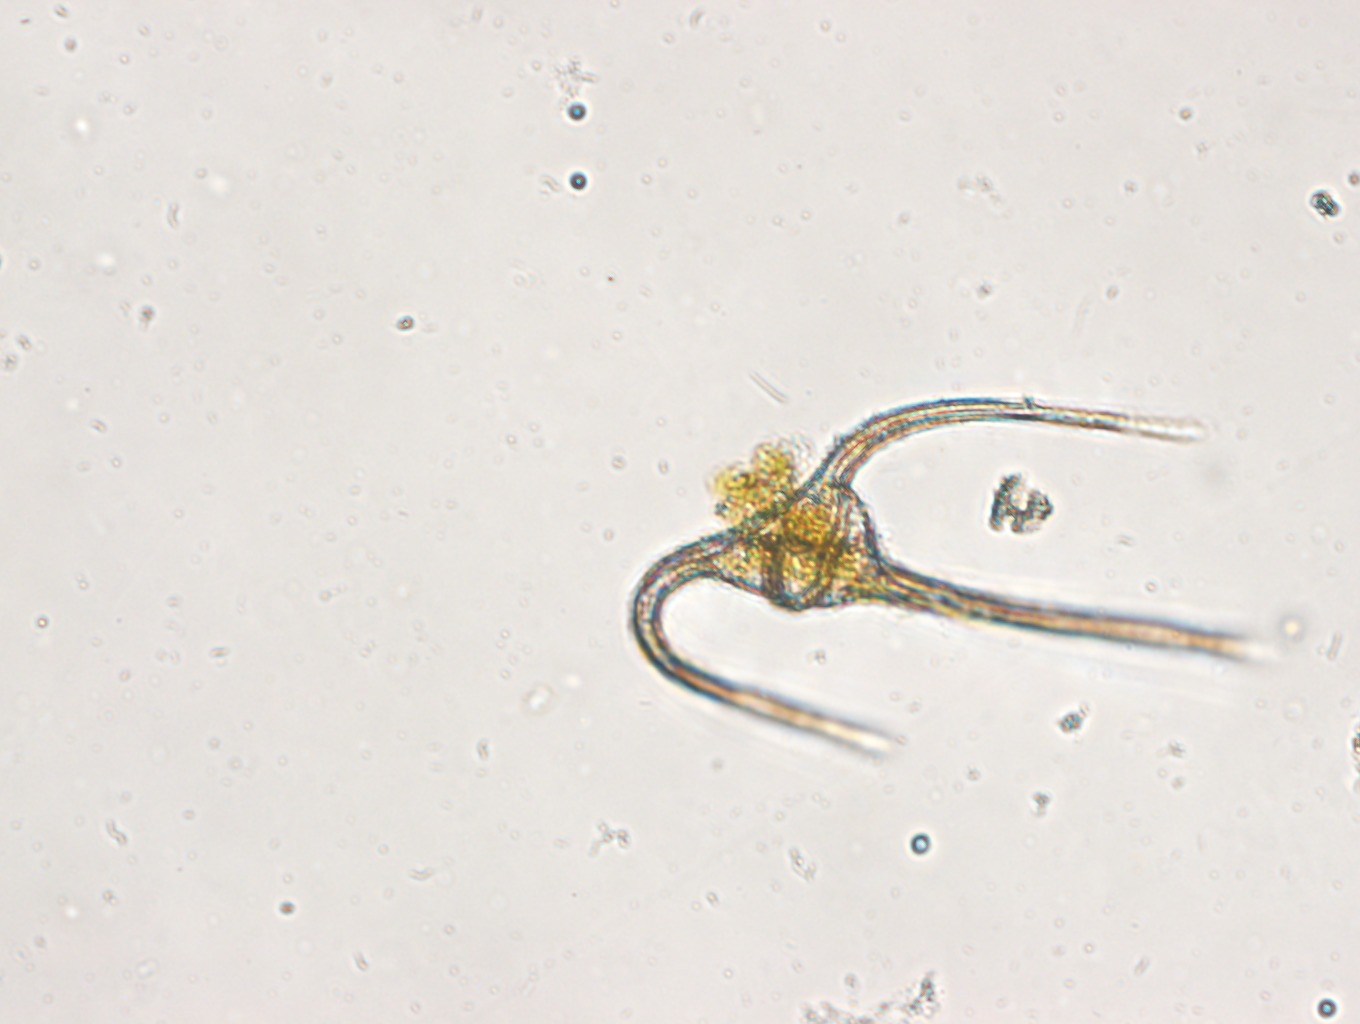ceratium trichoceros: (622, 393, 1282, 760)
